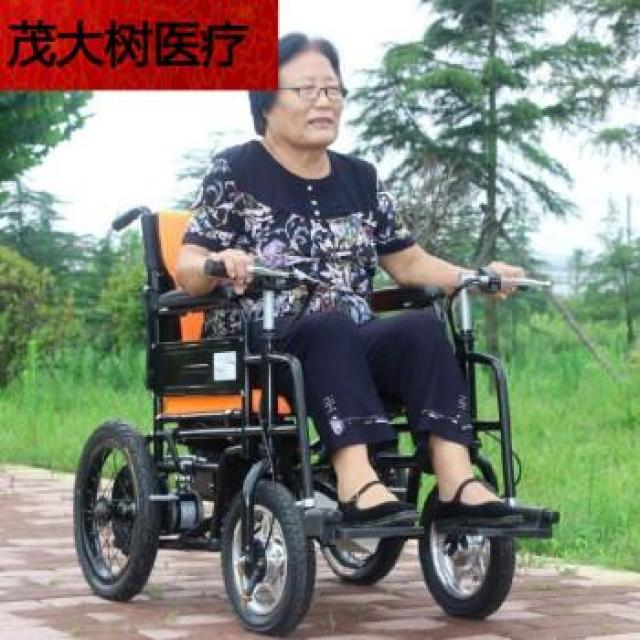wheelchairs: (53, 170, 552, 634)
